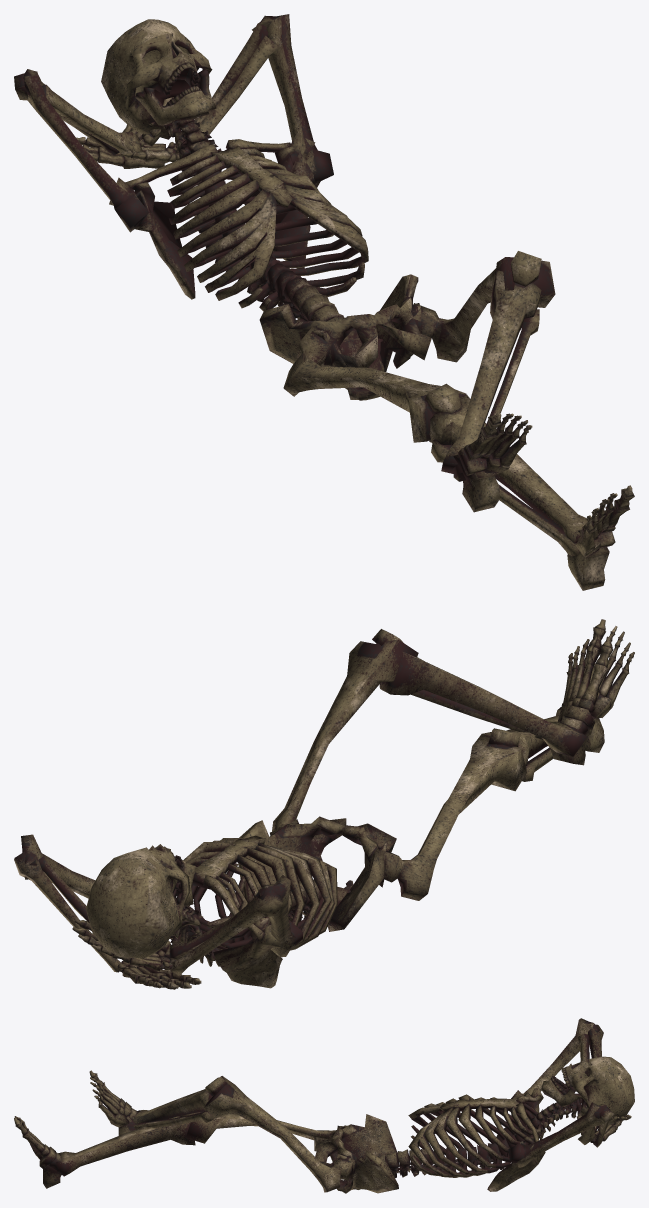
File: happy_skeleton.glb
The picture shows the model from 3 angles, top to bottom: view 1: azimuth 30°, elevation 25°; view 2: azimuth 150°, elevation 25°; view 3: azimuth 270°, elevation 25°; orthographic projection. The views are drawn at different scales.
Visible parts, largest first — view 1: BONES_RIBCAGE_7, BONES_LEG.L_2, BONES_LEG.R_3, BONES_ARM.L_4, BONES_ARM.R_1, BONES_HEAD_0, BONES_PELVIS_6, BONES_SPINE_5; view 2: BONES_LEG.L_2, BONES_LEG.R_3, BONES_HEAD_0, BONES_ARM.R_1, BONES_RIBCAGE_7, BONES_PELVIS_6, BONES_ARM.L_4, BONES_SPINE_5; view 3: BONES_RIBCAGE_7, BONES_LEG.L_2, BONES_LEG.R_3, BONES_PELVIS_6, BONES_HEAD_0, BONES_ARM.L_4, BONES_SPINE_5, BONES_ARM.R_1.
Part boxes in pixels (x1,y1,x2,y2): BONES_RIBCAGE_7: (167, 145, 368, 311); BONES_LEG.L_2: (411, 251, 555, 512); BONES_LEG.R_3: (283, 326, 634, 590); BONES_ARM.L_4: (76, 14, 333, 268); BONES_ARM.R_1: (14, 69, 218, 299); BONES_HEAD_0: (101, 19, 216, 139); BONES_PELVIS_6: (259, 274, 431, 400); BONES_SPINE_5: (148, 104, 345, 322); BONES_LEG.L_2: (270, 629, 613, 835); BONES_LEG.R_3: (379, 619, 634, 900); BONES_HEAD_0: (86, 844, 195, 958); BONES_ARM.R_1: (72, 875, 302, 988); BONES_RIBCAGE_7: (169, 835, 337, 950); BONES_PELVIS_6: (238, 816, 396, 931); BONES_ARM.L_4: (14, 834, 201, 989); BONES_SPINE_5: (170, 879, 321, 966); BONES_RIBCAGE_7: (408, 1094, 541, 1177); BONES_LEG.L_2: (89, 1070, 355, 1192); BONES_LEG.R_3: (14, 1111, 347, 1188); BONES_PELVIS_6: (314, 1114, 398, 1193); BONES_HEAD_0: (541, 1056, 634, 1124); BONES_ARM.L_4: (487, 1102, 622, 1191); BONES_SPINE_5: (378, 1098, 581, 1178); BONES_ARM.R_1: (489, 1018, 631, 1155).
Size of the model in its own units: 0.5315 by 0.4078 by 1.71.
Materials: 1 (1 with a texture image).
